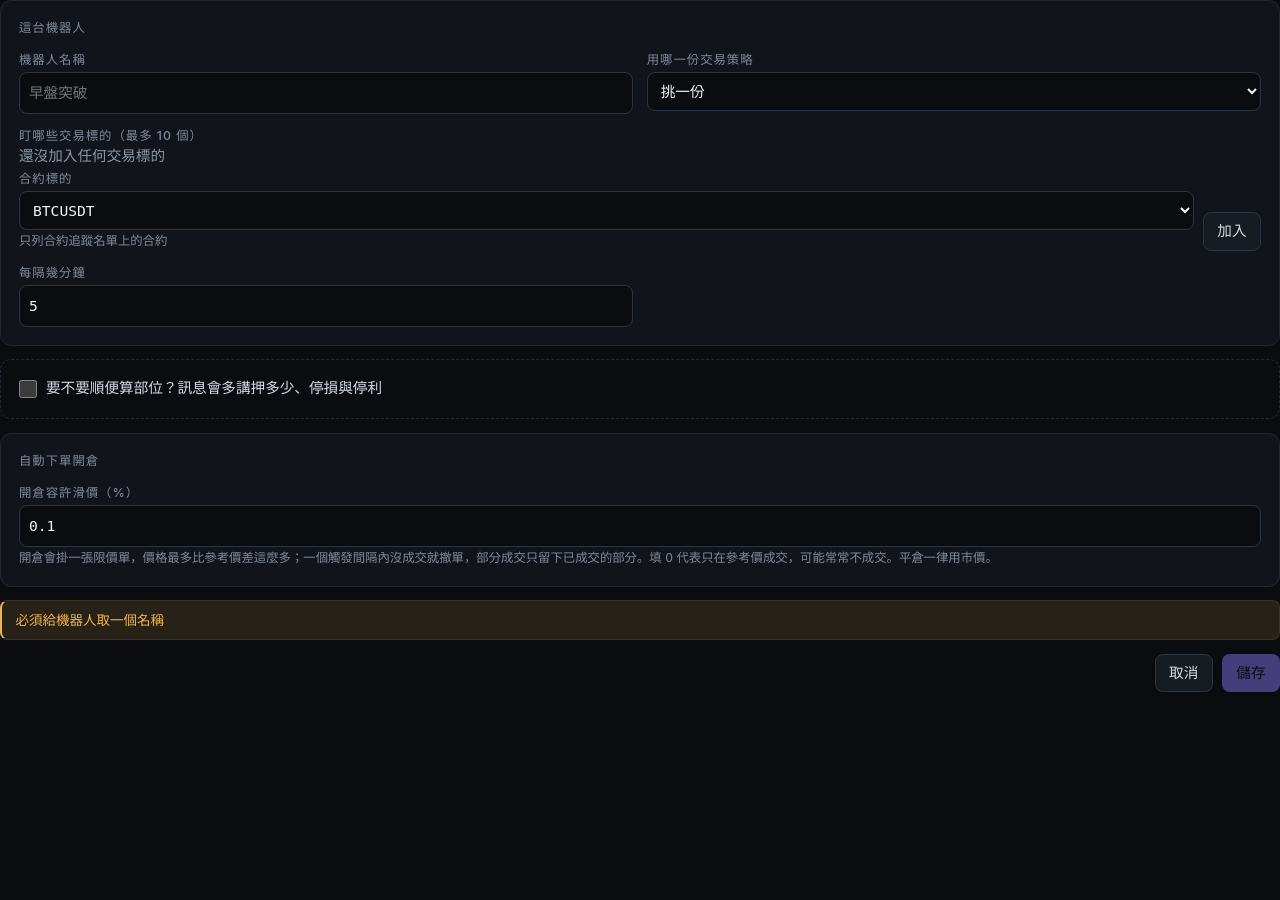
Test: StrategyBotForm 在合約那一頁 › 槓桿小於一時儲存不給按，並說出理由
This screenshot has width=1280, height=900.
Type "費率反轉" into the field with test id "bot-name-input". click: {"x": 326, "y": 93}
box: 19,72 -> 633,114
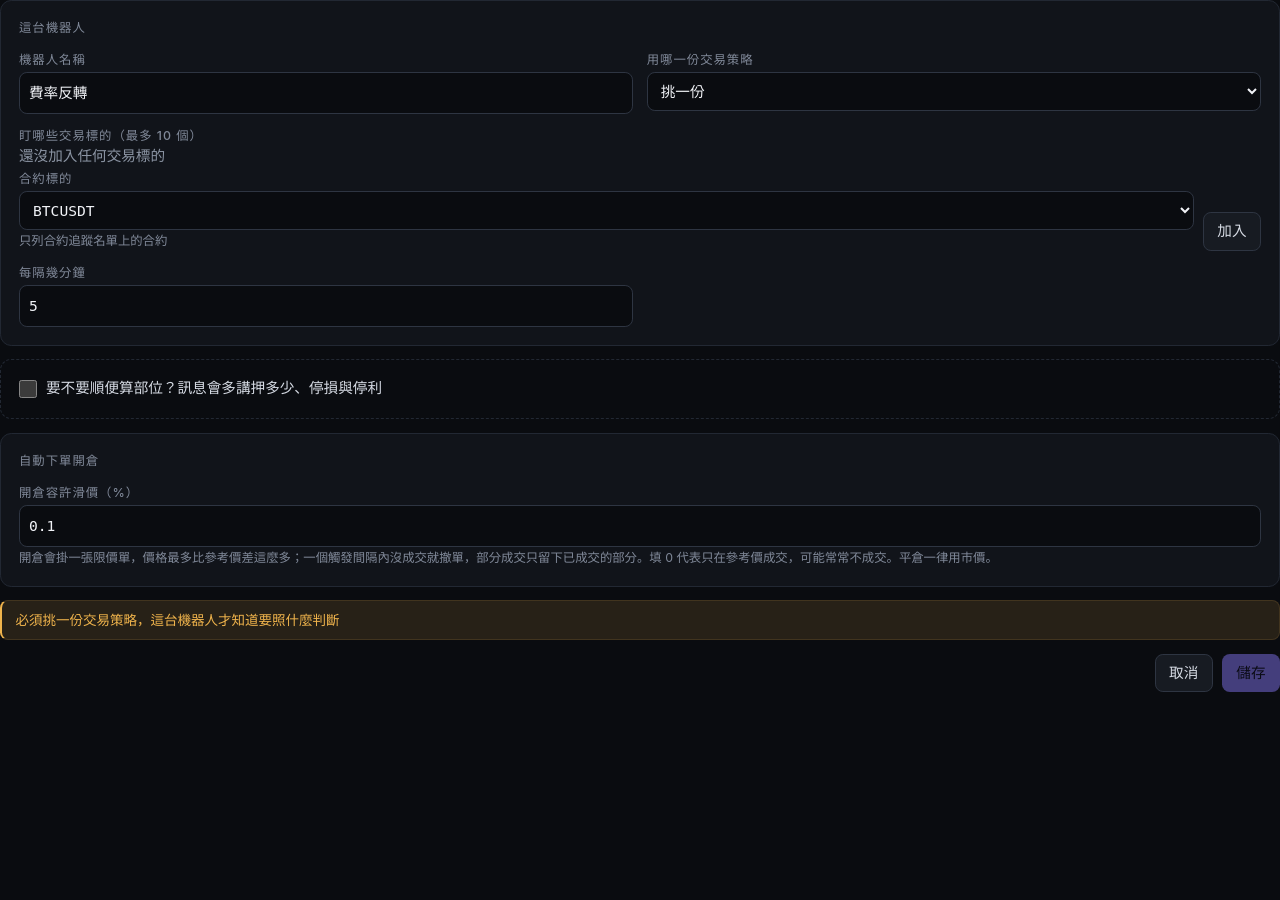
Select "黃金交叉" in the dropdown with test id "bot-trading-strategy-select". click: {"x": 954, "y": 91}
box: 647,72 -> 1261,111
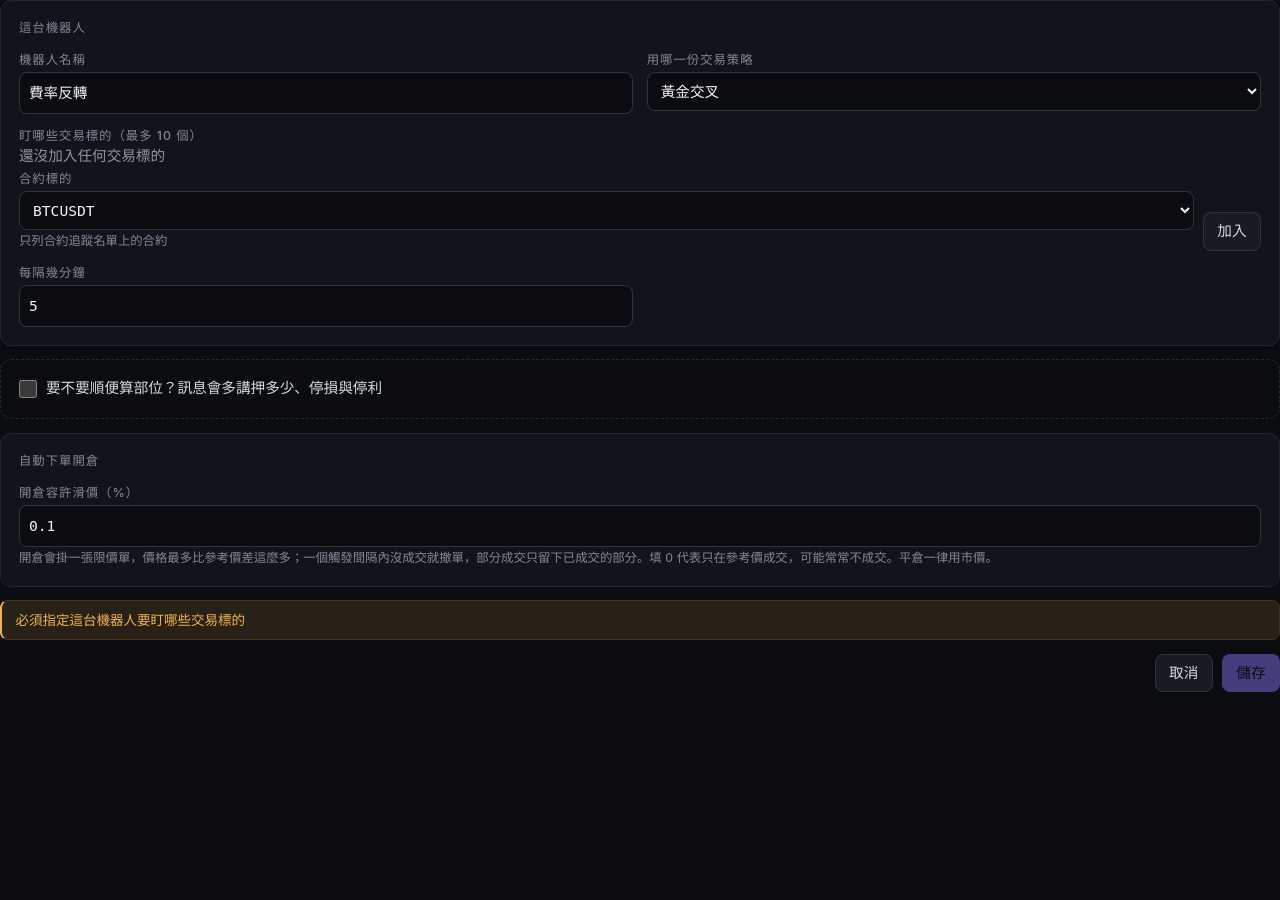
Click the checkbox with test id "bot-position-plan-toggle". click: {"x": 28, "y": 389}
box: 19,380 -> 37,398
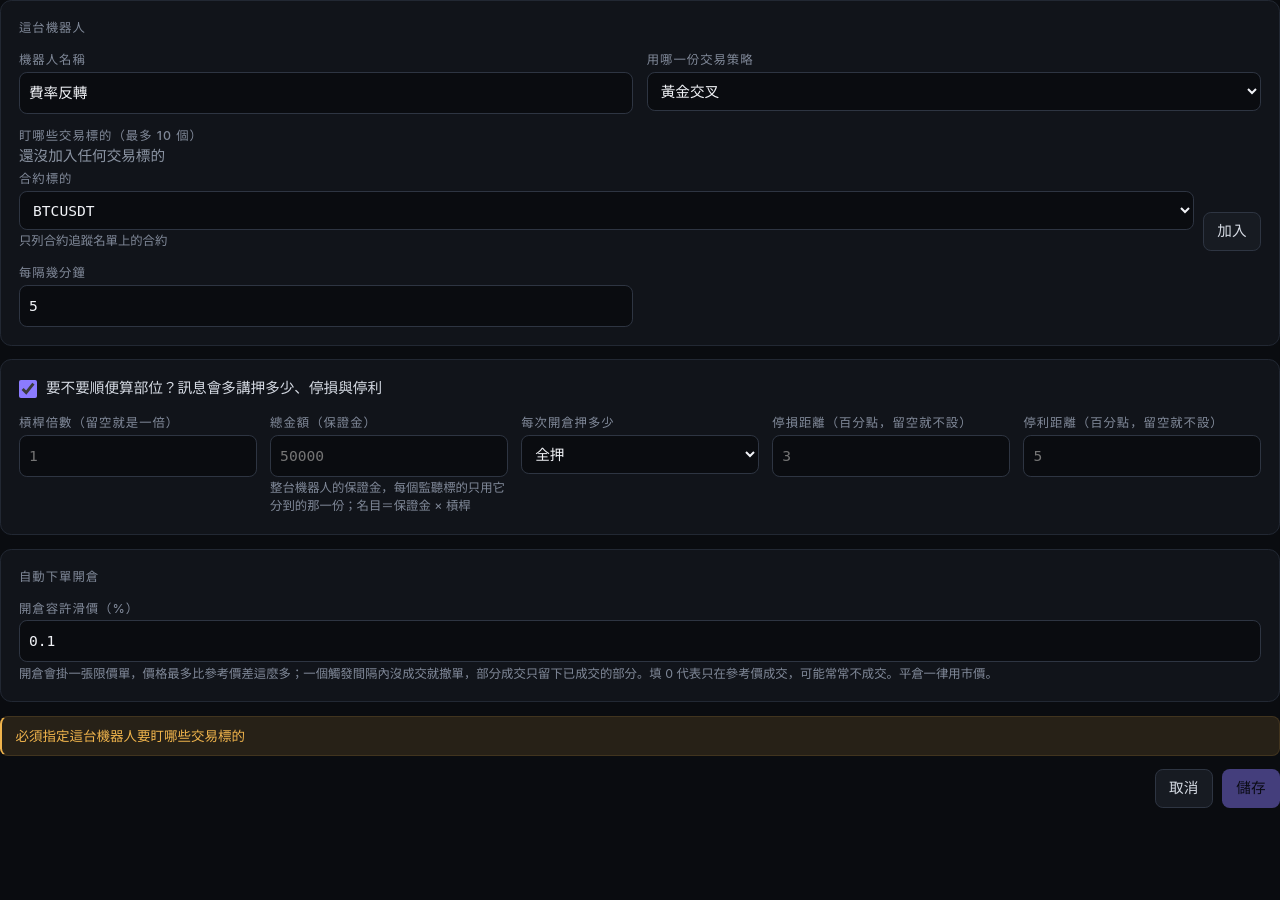
Type "1000" into the number field with test id "bot-position-capital-input". click: {"x": 389, "y": 456}
box: 270,435 -> 508,477
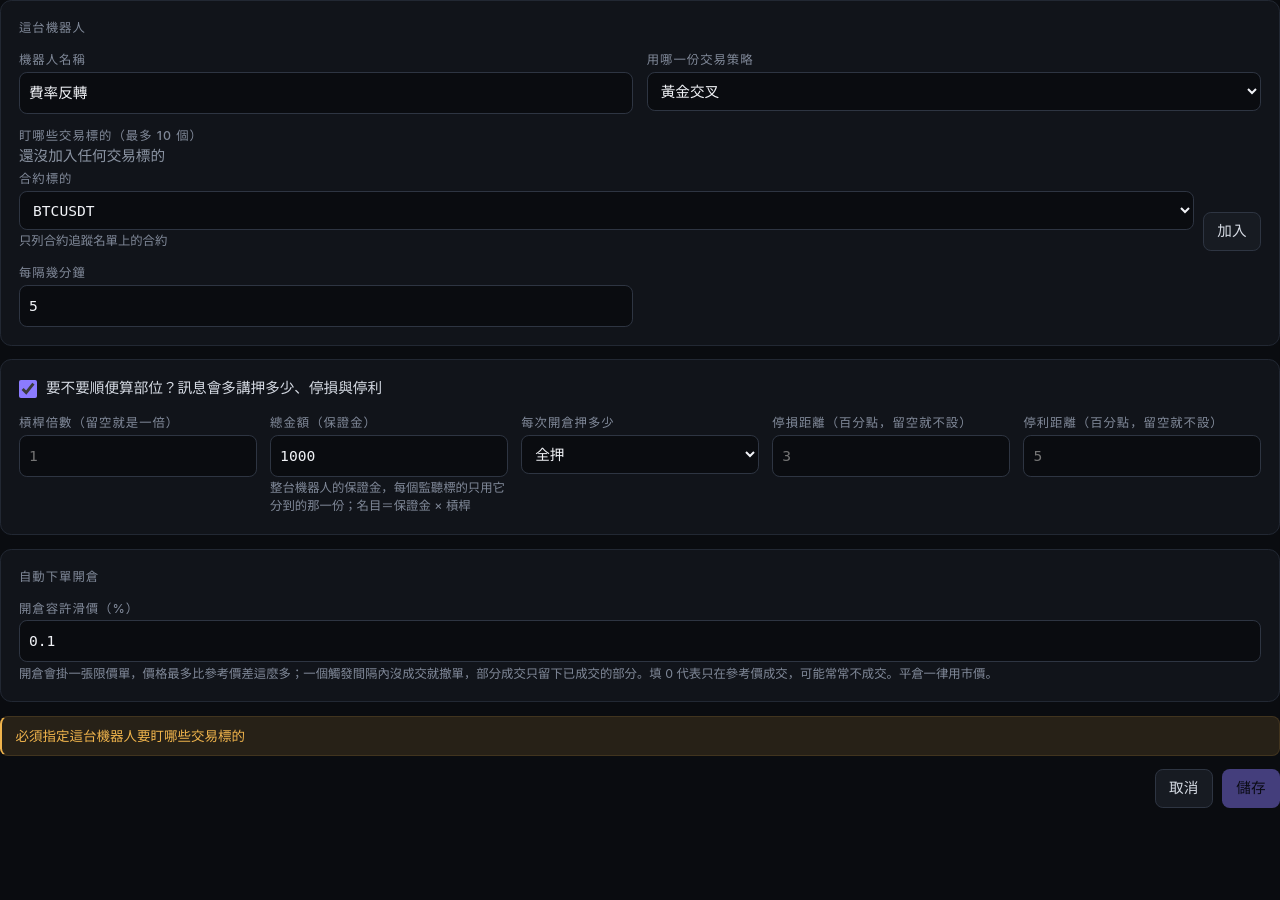
Select "全押" in the dropdown with test id "bot-position-sizing-mode-select". click: {"x": 640, "y": 454}
box: 521,435 -> 759,474
Type "0.5" into the number field with test id "bot-position-leverage-input". click: {"x": 138, "y": 456}
box: 19,435 -> 257,477
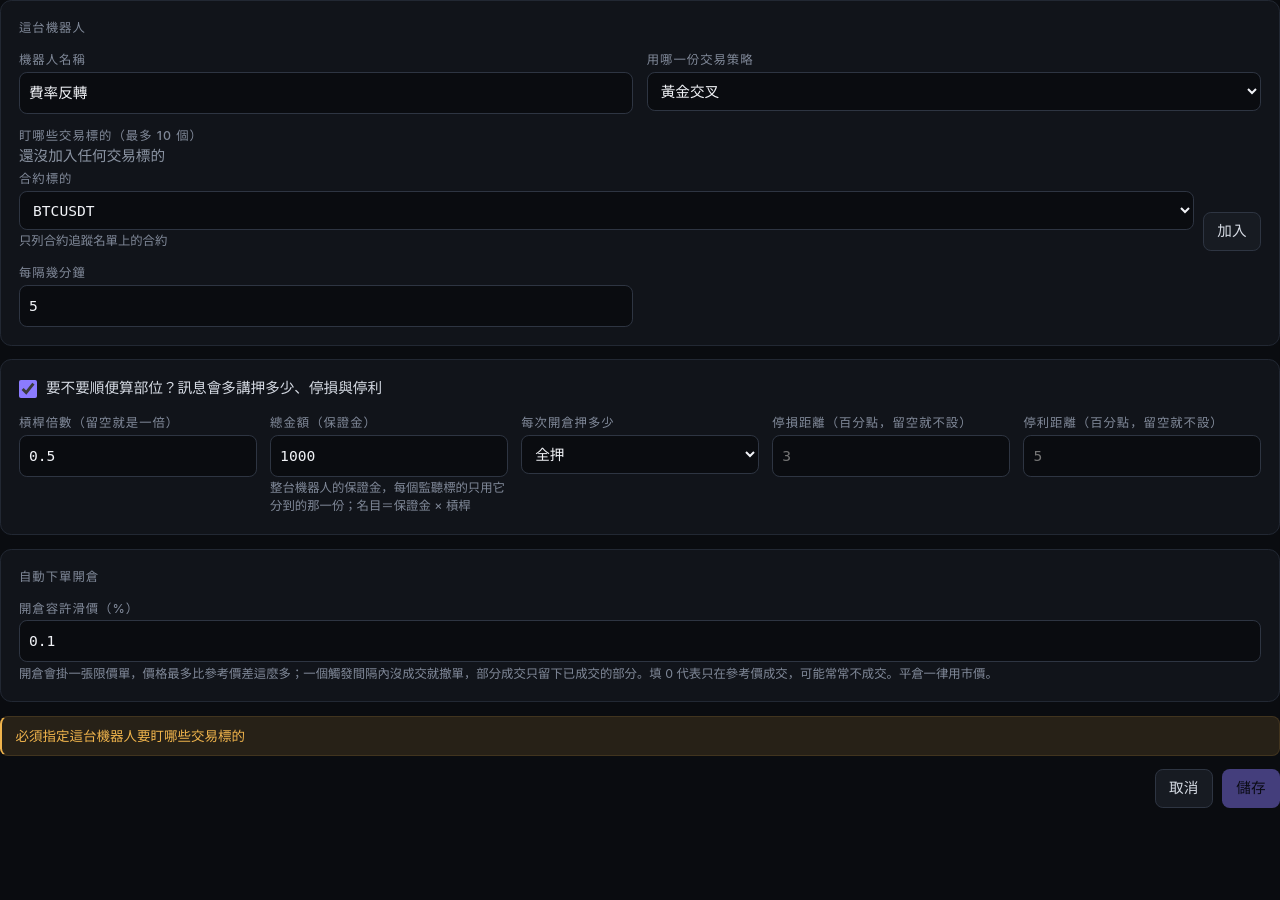
Click the button with test id "bot-watched-symbol-add". click: {"x": 1232, "y": 232}
box: 1203,212 -> 1261,251
(page scrolled)
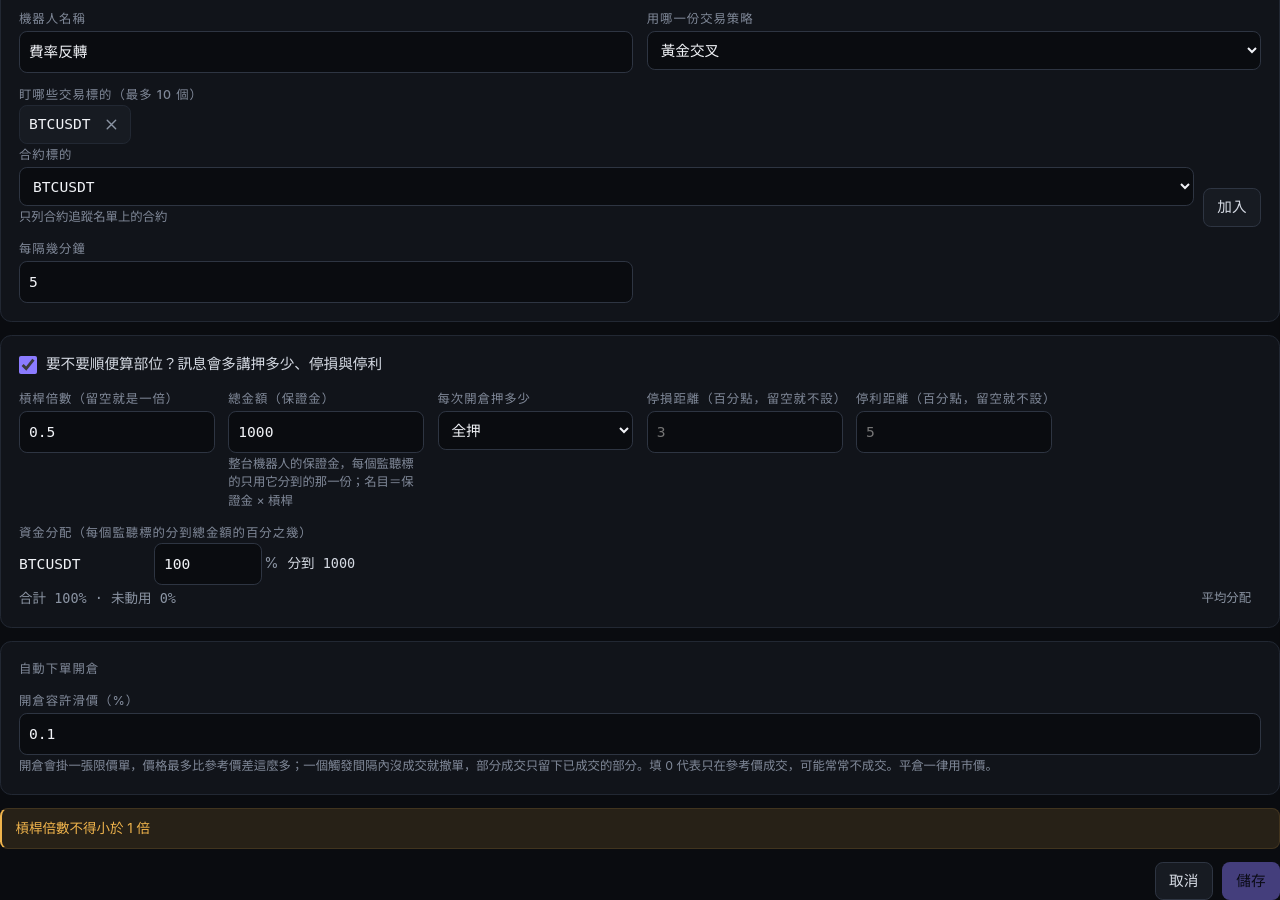
Check: the button with test id "bot-form-save" is disabled, box 1222,862 -> 1279,899
Check: the message with test id "bot-form-rejection" reads "槓桿倍數不得小於 1 倍", box 16,820 -> 150,836
